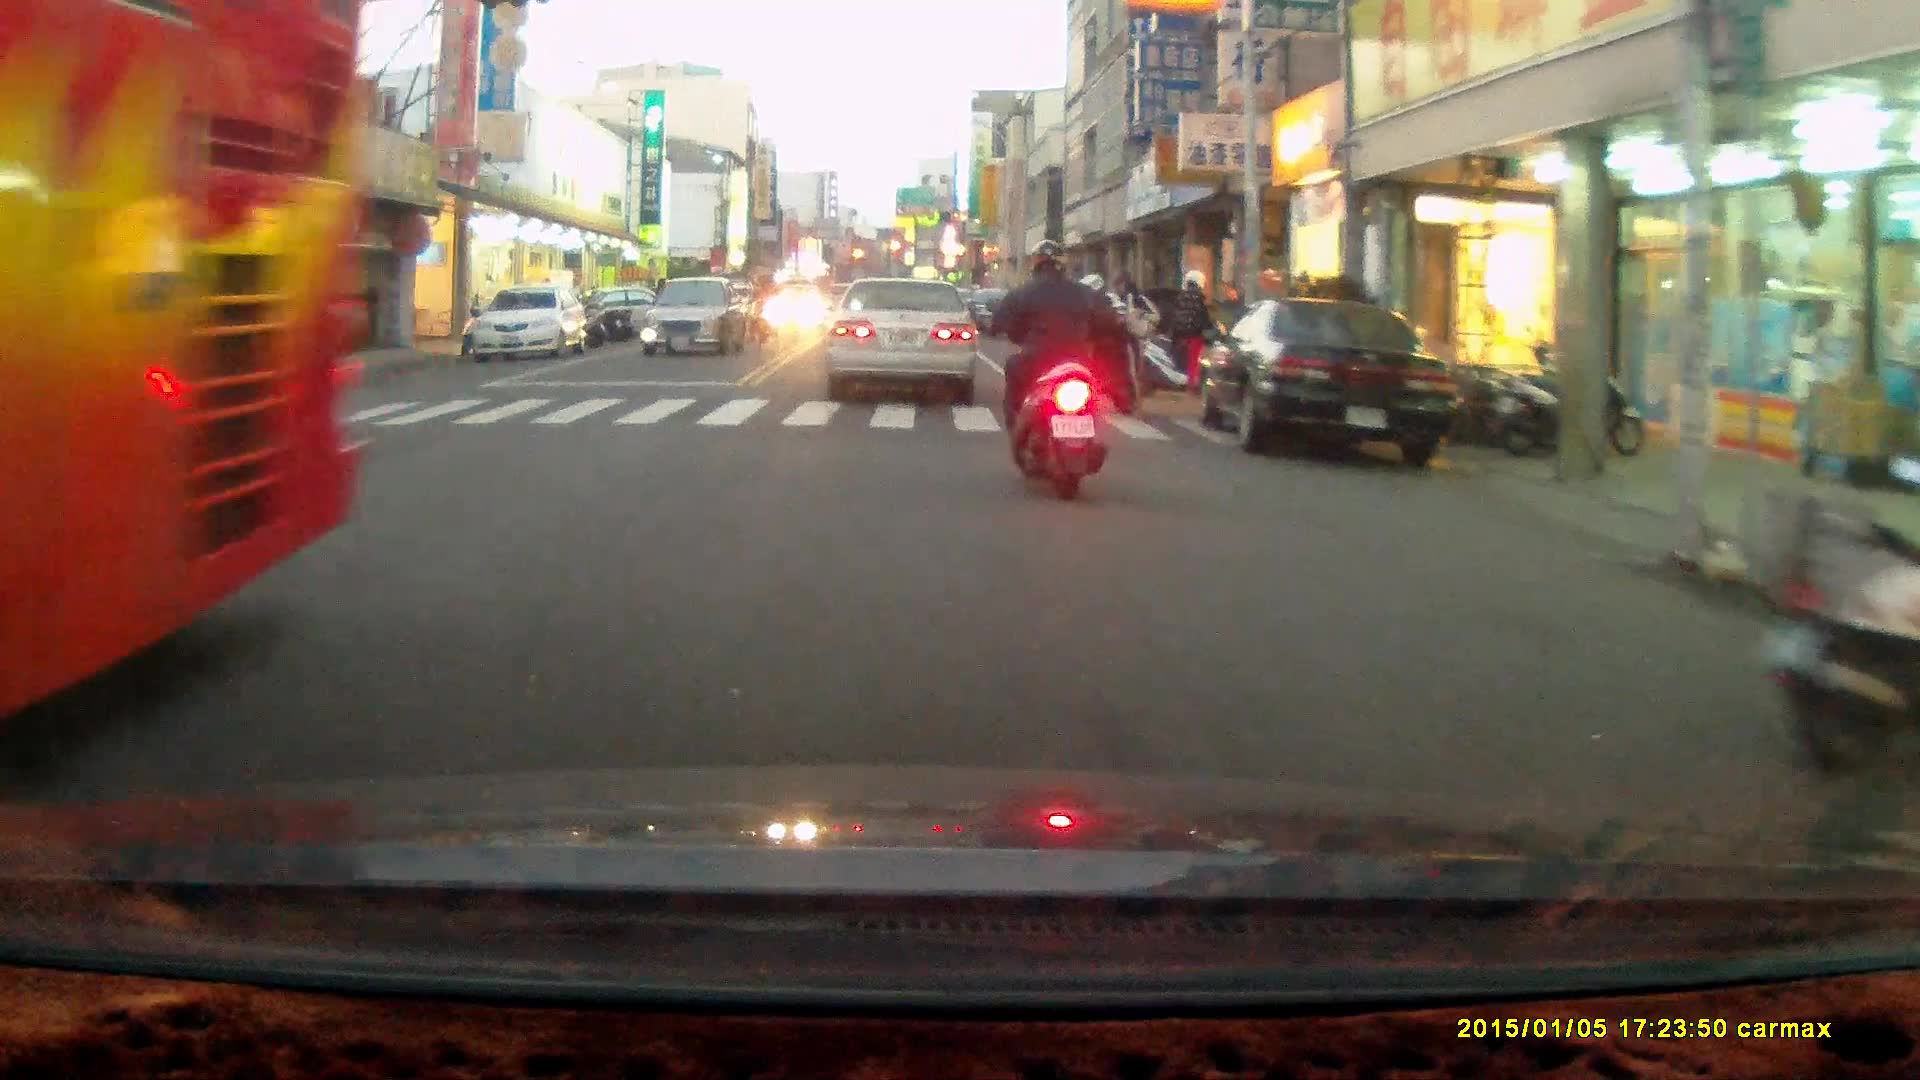pedestrian: (1176, 267, 1217, 403)
rider: (986, 239, 1111, 503)
vehicle: (1, 16, 382, 723), (1195, 302, 1468, 467), (831, 277, 991, 408), (467, 289, 585, 366), (646, 279, 749, 357)
